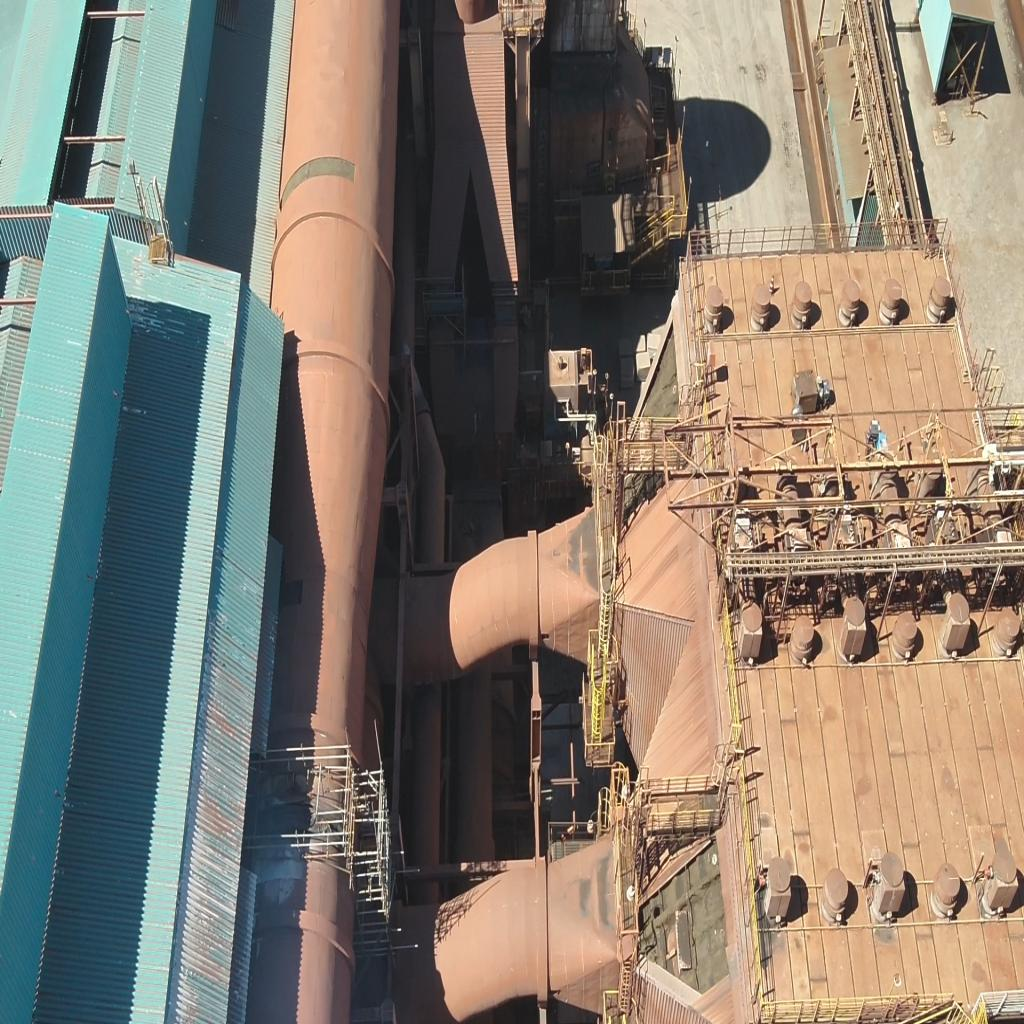Failures: (640, 842, 732, 1002), (616, 330, 690, 515), (277, 154, 359, 192), (274, 572, 306, 610)
